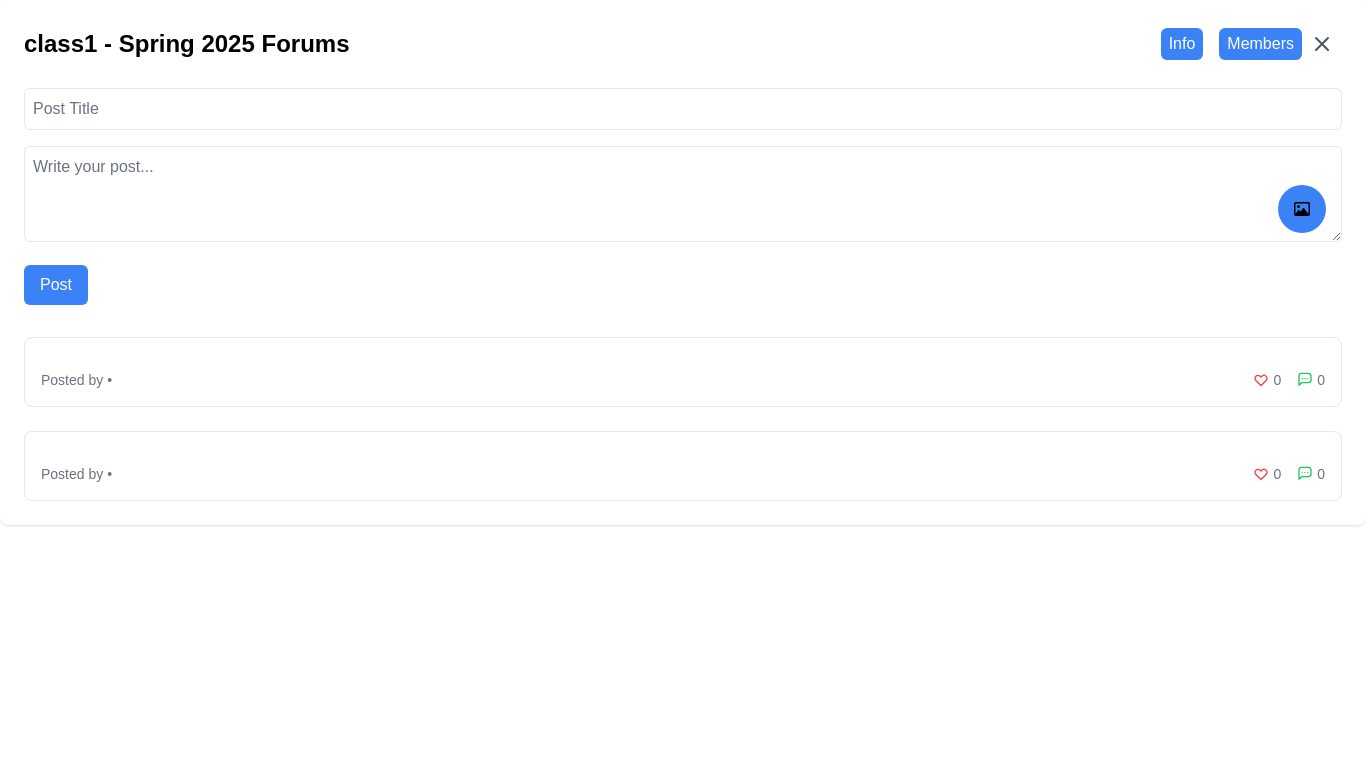
Test: ClassForum Component › displays error message when creating a post fails
The image size is (1366, 768).
Type "New Post" into the field with placeholder "Post Title". click: [683, 109]
box: top-left (24, 88), bottom-right (1342, 130)
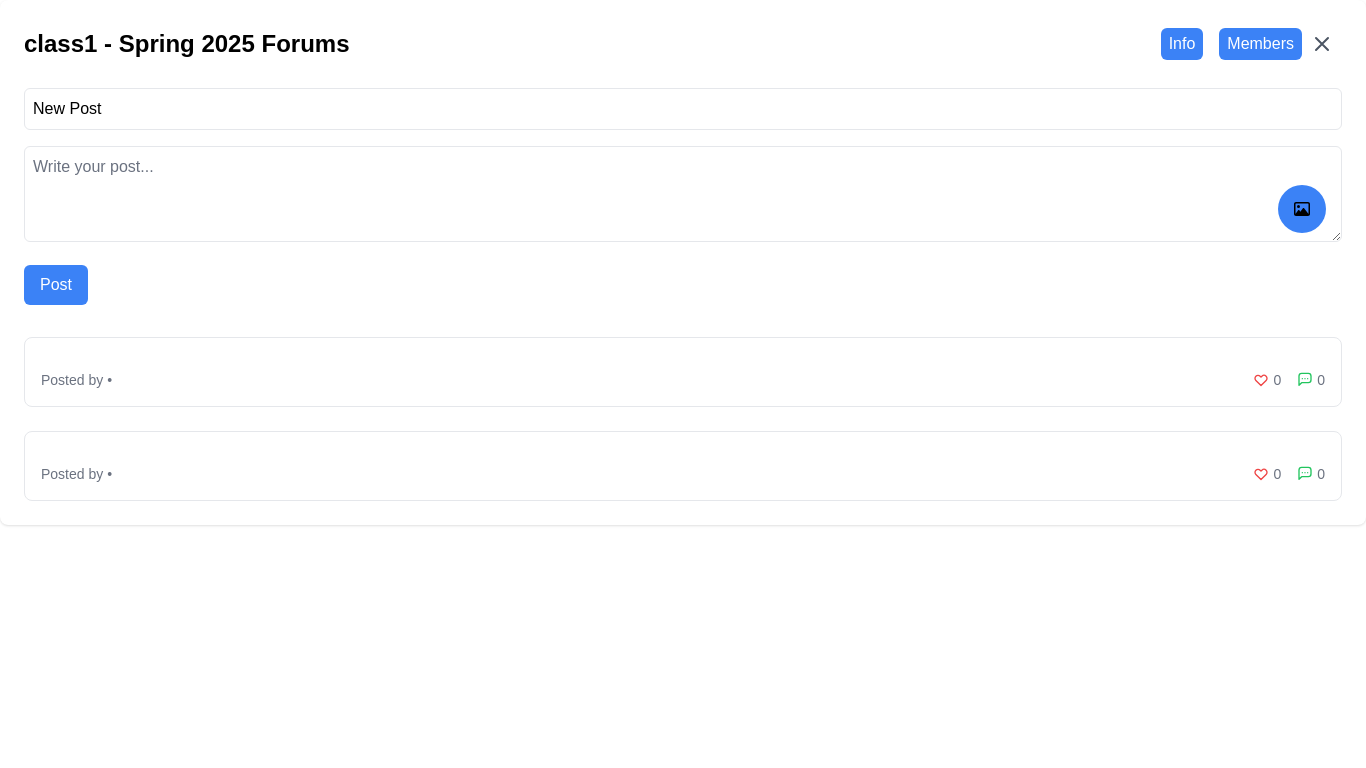
Type "This is a new post" into the text box with placeholder "Write your post...". click: [683, 194]
box: top-left (24, 146), bottom-right (1342, 242)
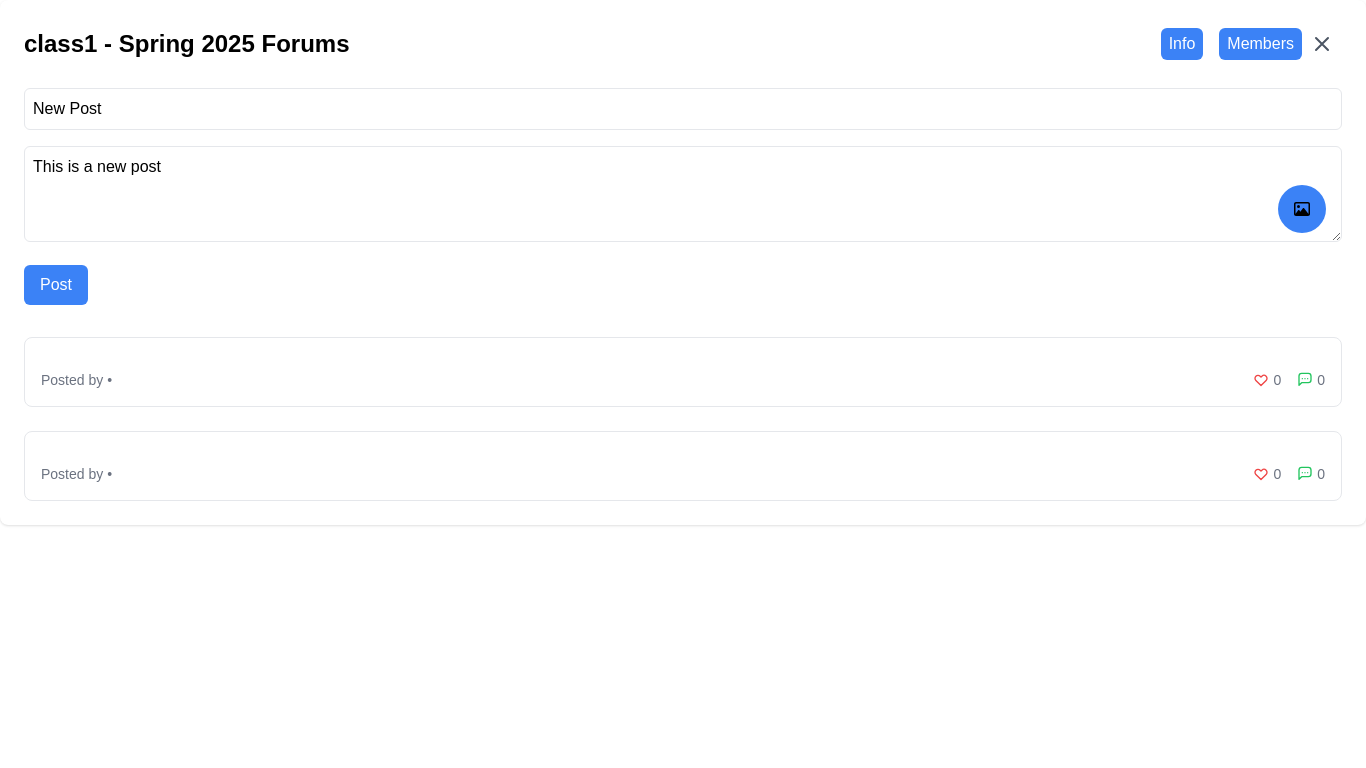
Click the button "Post". click: [56, 285]
box: top-left (24, 265), bottom-right (88, 305)
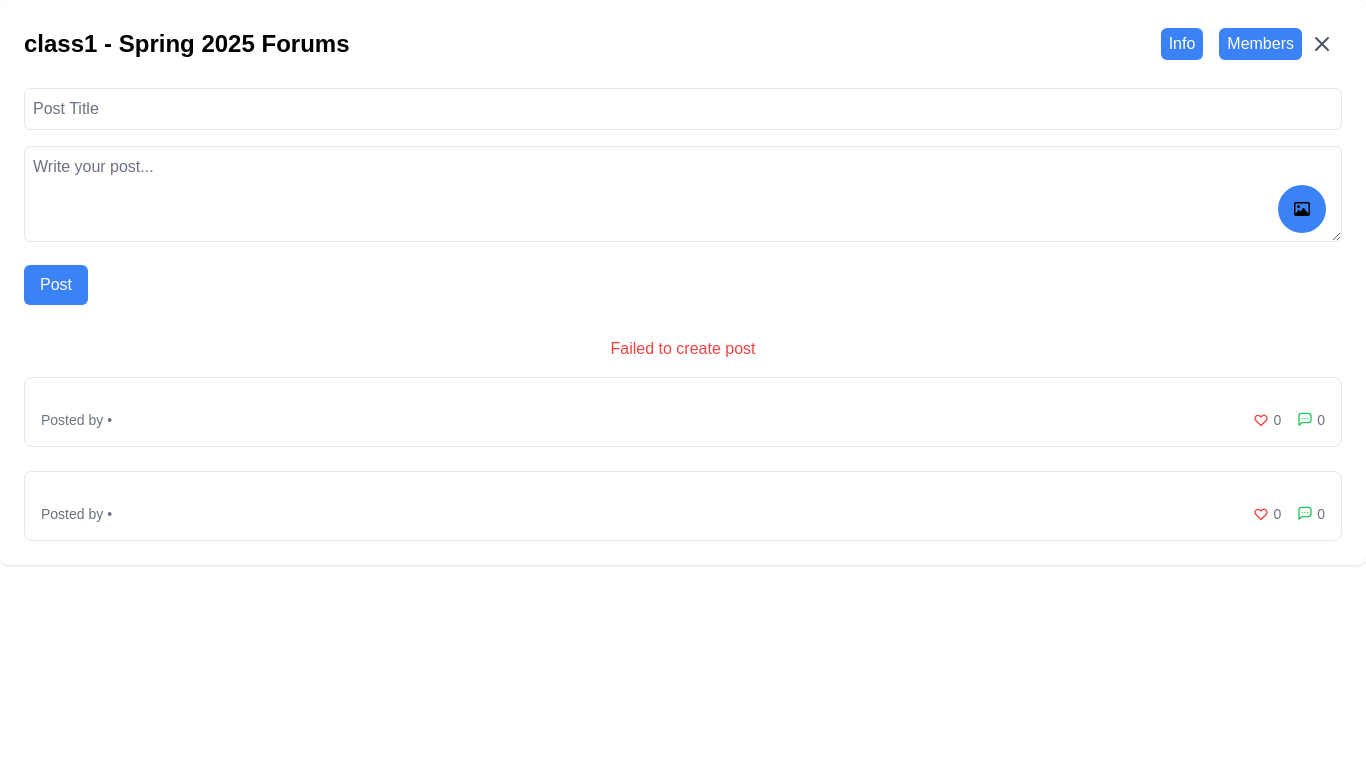
Now the text "Failed to create post" is shown, box top-left (610, 340), bottom-right (756, 357)
